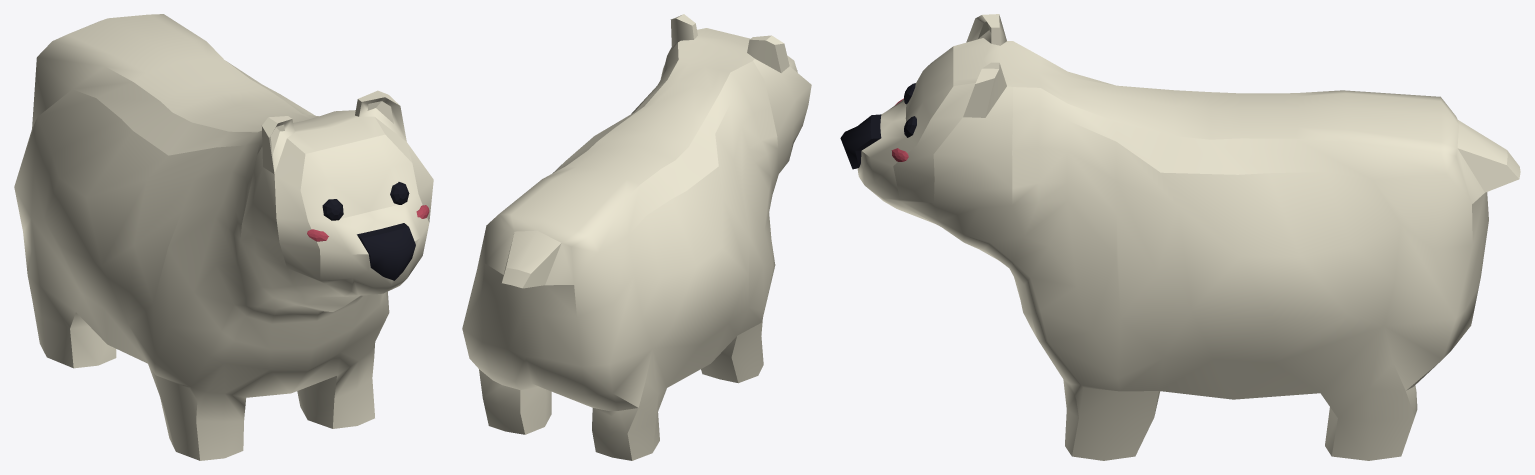
Rendered from MAS_Bear_NoAnim.fbx.
3 renders of one model, left to right at view 1: azimuth 30°, elevation 25°; view 2: azimuth 150°, elevation 25°; view 3: azimuth 270°, elevation 25°, orthographic. The views are drawn at different scales.
Visible parts, largest first — view 1: MAS_Bearu_SK; view 2: MAS_Bearu_SK; view 3: MAS_Bearu_SK.
Boxes of the visible parts, x1,y1,x2,y2 form: MAS_Bearu_SK: (14, 14, 433, 460); MAS_Bearu_SK: (462, 14, 811, 460); MAS_Bearu_SK: (840, 14, 1520, 460).
Size of the model in its own units: 2.78 by 3.74 by 6.22.
